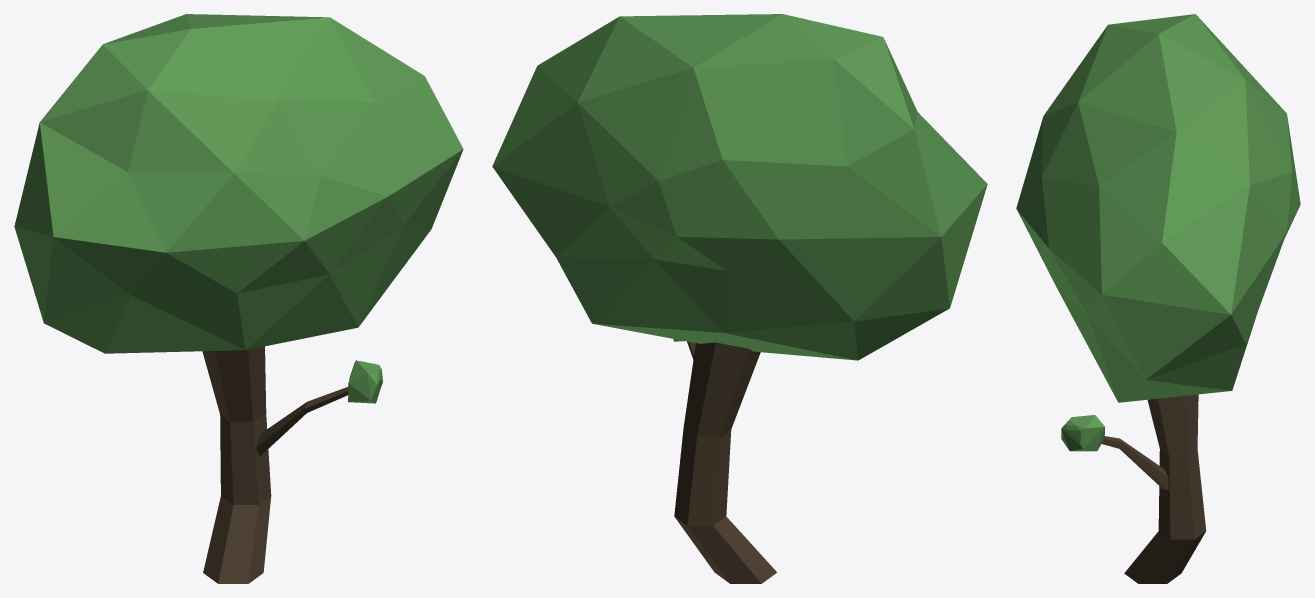
Rendered from Tree_5_Green.fbx.
The picture shows the model from 3 angles, left to right: view 1: azimuth 30°, elevation 25°; view 2: azimuth 150°, elevation 25°; view 3: azimuth 270°, elevation 25°; orthographic projection. The views are drawn at different scales.
Visible parts, largest first — view 1: Tree_5_Green_Part_2, Tree_5_Green_Part_1, Tree_5_Green_Part_3; view 2: Tree_5_Green_Part_2, Tree_5_Green_Part_1; view 3: Tree_5_Green_Part_2, Tree_5_Green_Part_1, Tree_5_Green_Part_3.
Boxes of the visible parts, bbox=[...] form: Tree_5_Green_Part_2: bbox=[14, 14, 463, 353]; Tree_5_Green_Part_1: bbox=[202, 346, 348, 583]; Tree_5_Green_Part_3: bbox=[348, 360, 382, 403]; Tree_5_Green_Part_2: bbox=[492, 14, 987, 360]; Tree_5_Green_Part_1: bbox=[674, 341, 776, 583]; Tree_5_Green_Part_2: bbox=[1016, 14, 1300, 402]; Tree_5_Green_Part_1: bbox=[1101, 394, 1206, 583]; Tree_5_Green_Part_3: bbox=[1061, 415, 1104, 451].
Bounding box in the file's own units: 546 × 701 × 346.
